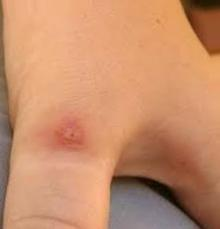Spider: (47, 120, 85, 150)
